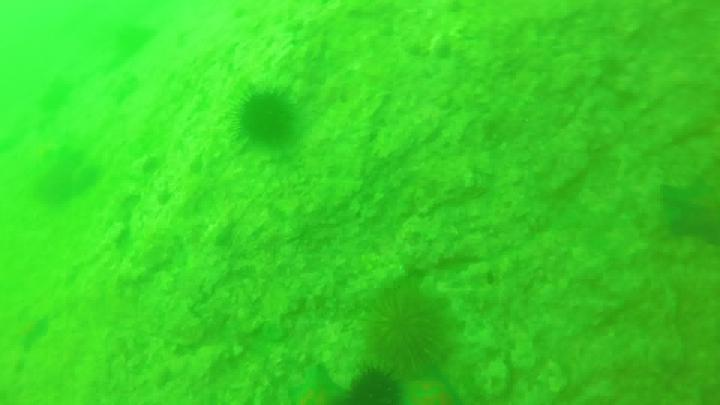echinus: (368, 280, 455, 373), (234, 81, 298, 149), (354, 363, 407, 405)
